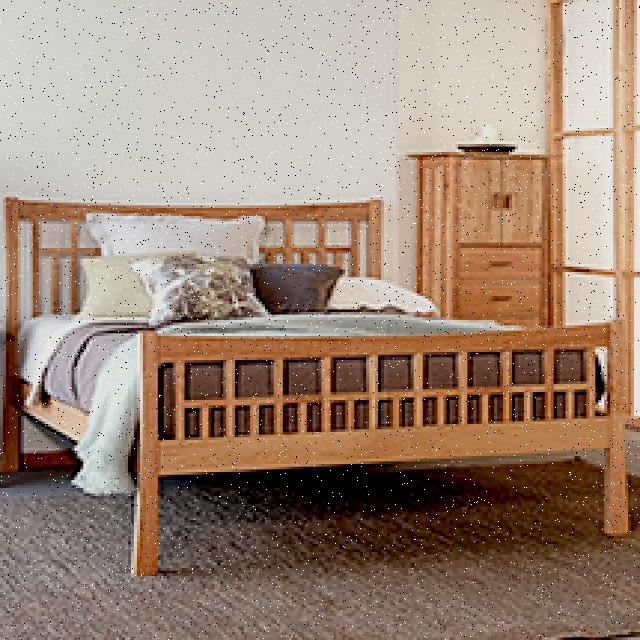bed: (5, 179, 619, 558)
